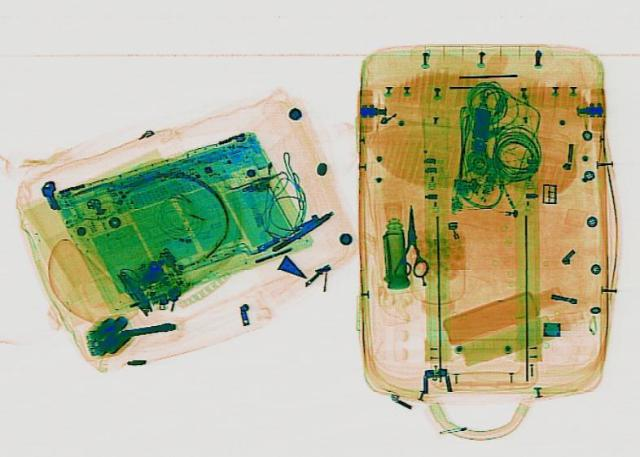Scissors: (392, 202, 428, 277)
